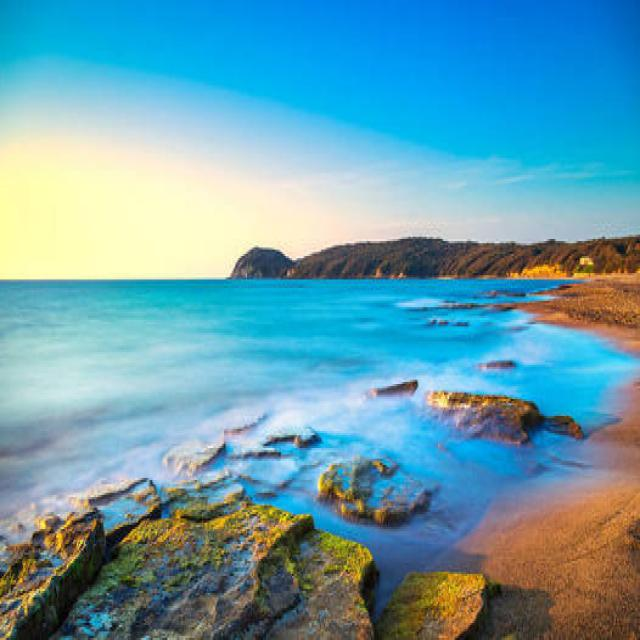island: (225, 210, 629, 296)
